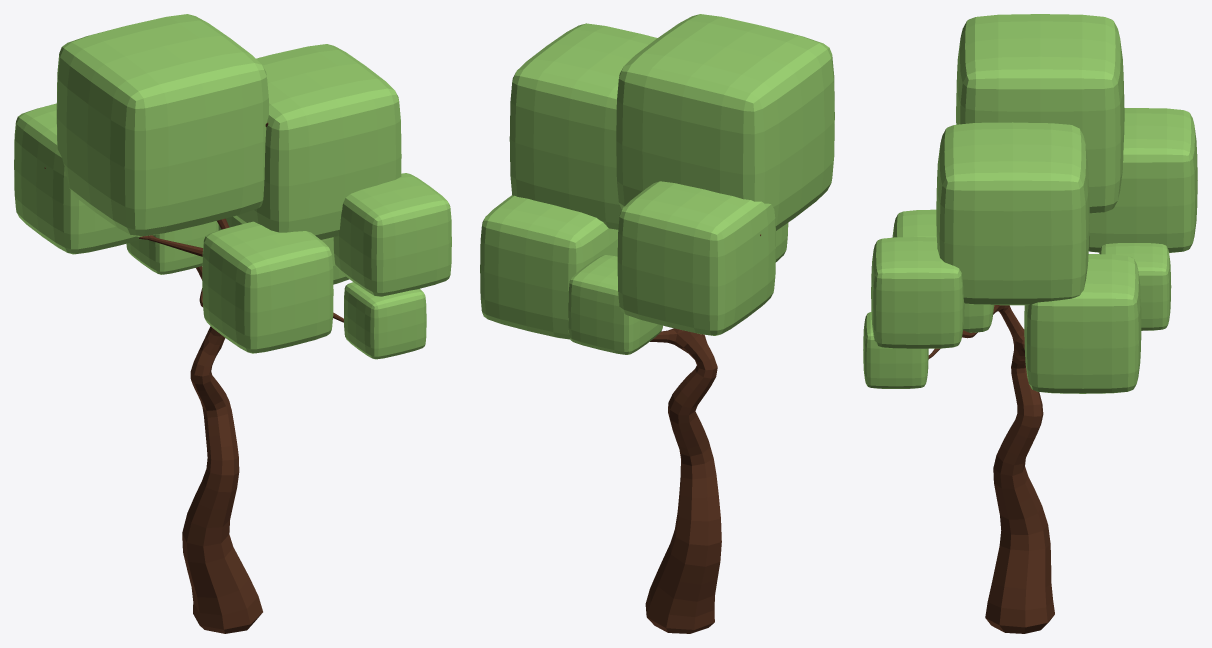
Rendered from FH LeafTree.fbx.
3 views of the same model, side by side, from view 1: azimuth 30°, elevation 25°; view 2: azimuth 150°, elevation 25°; view 3: azimuth 270°, elevation 25° (orthographic). The views are drawn at different scales.
Parts seen in each view (by area): view 1: LeafTree; view 2: LeafTree; view 3: LeafTree.
Boxes of the visible parts, x1=… form: LeafTree: x1=14, y1=14, x2=451, y2=633; LeafTree: x1=480, y1=14, x2=834, y2=633; LeafTree: x1=863, y1=14, x2=1197, y2=633.
Bounding box in the file's own units: 2077 × 4067 × 2187.
